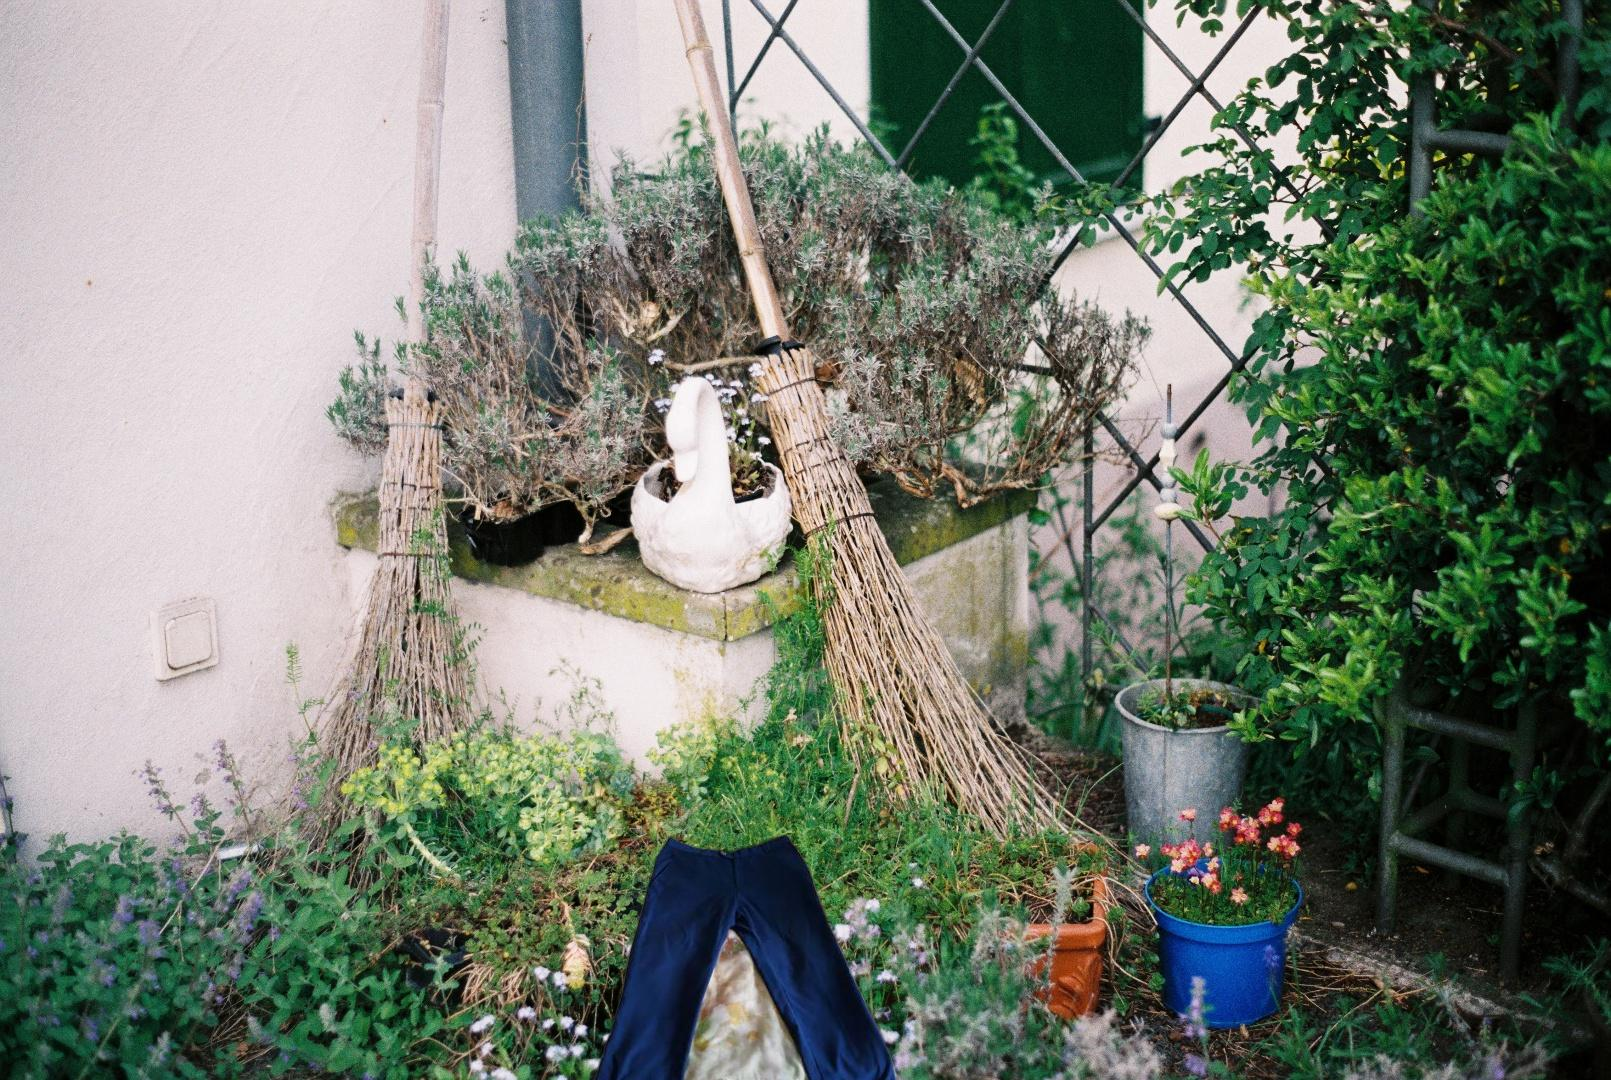clothes: (580, 830, 947, 1080)
